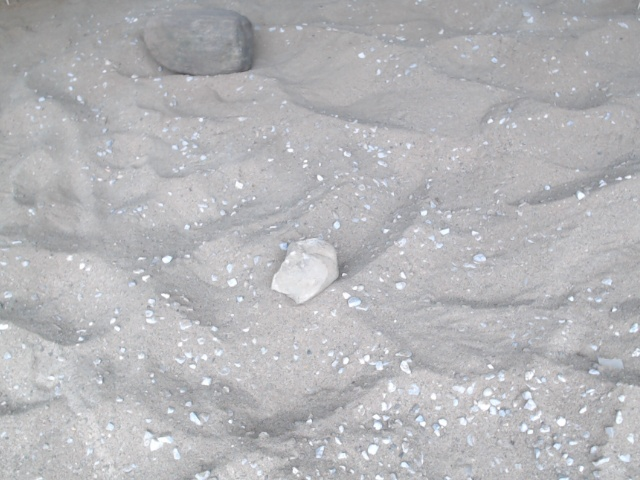rock: (136, 1, 263, 82), (265, 232, 346, 313)
